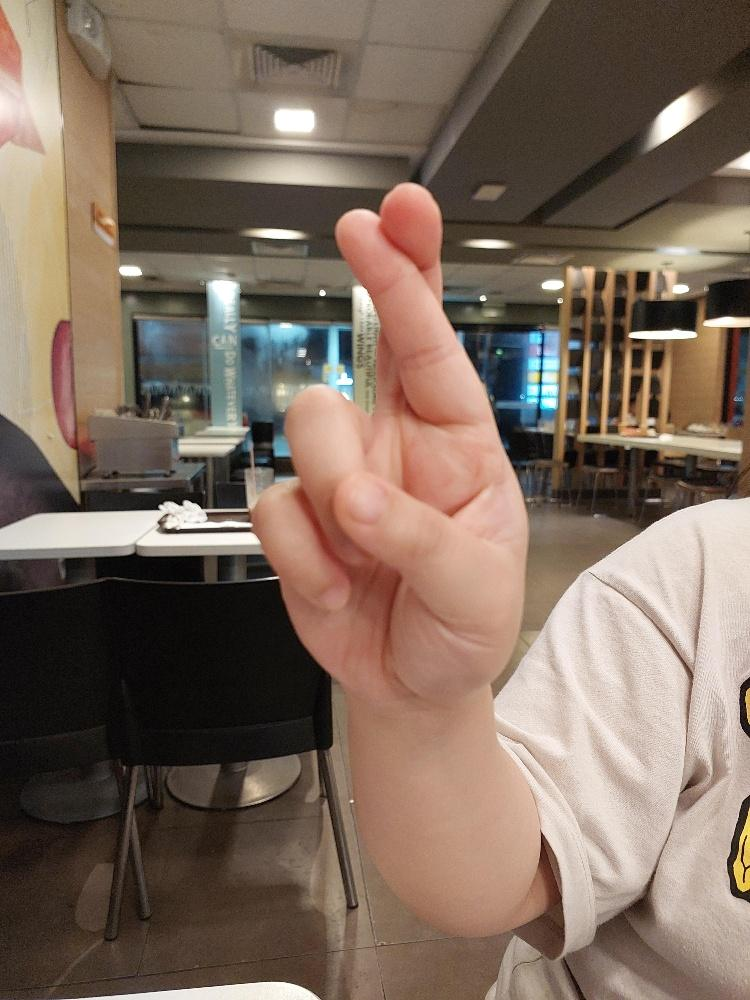r: (248, 178, 530, 706)
